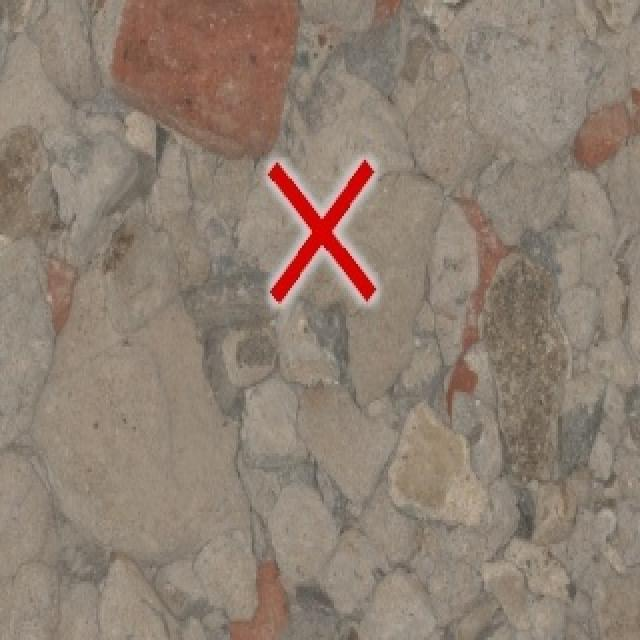x_marker: (269, 158, 375, 302)
